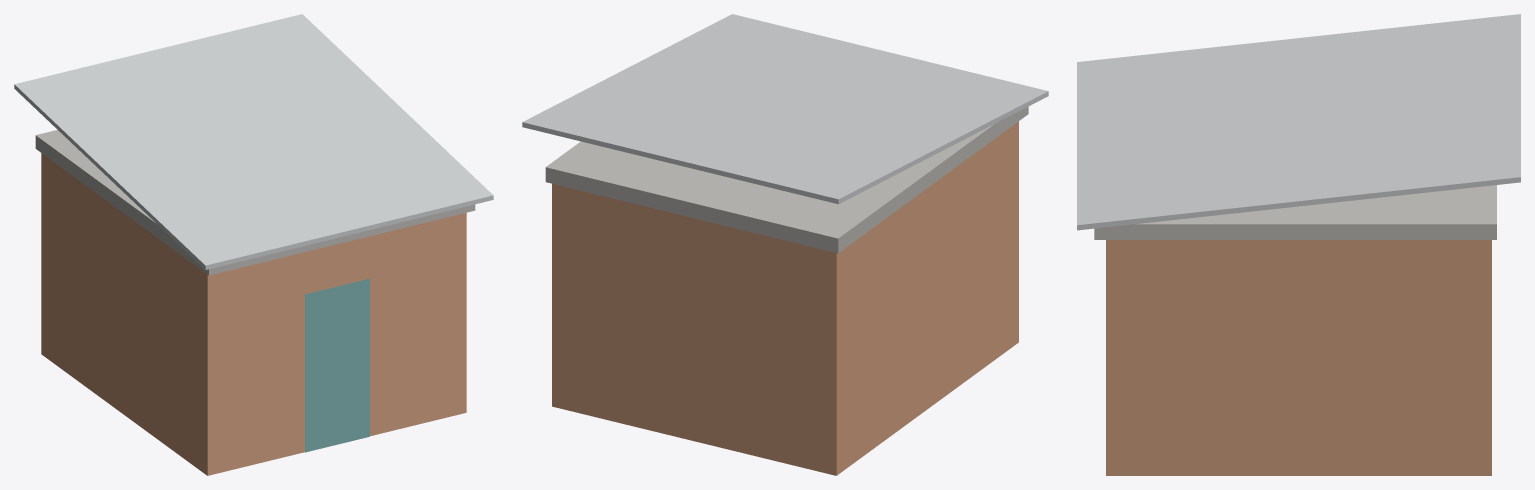
3 renders of one model, left to right at view 1: azimuth 30°, elevation 25°; view 2: azimuth 150°, elevation 25°; view 3: azimuth 270°, elevation 25°, orthographic. The views are drawn at different scales.
Parts seen in each view (by area): view 1: fv_h03.lod1; view 2: fv_h03.lod1; view 3: fv_h03.lod1.
Boxes of the visible parts, <box> form: fv_h03.lod1: <box>14,14,493,475</box>; fv_h03.lod1: <box>522,14,1048,475</box>; fv_h03.lod1: <box>1077,14,1520,475</box>.
Bounding box in the file's own units: 4 × 3.51 × 4.6.
